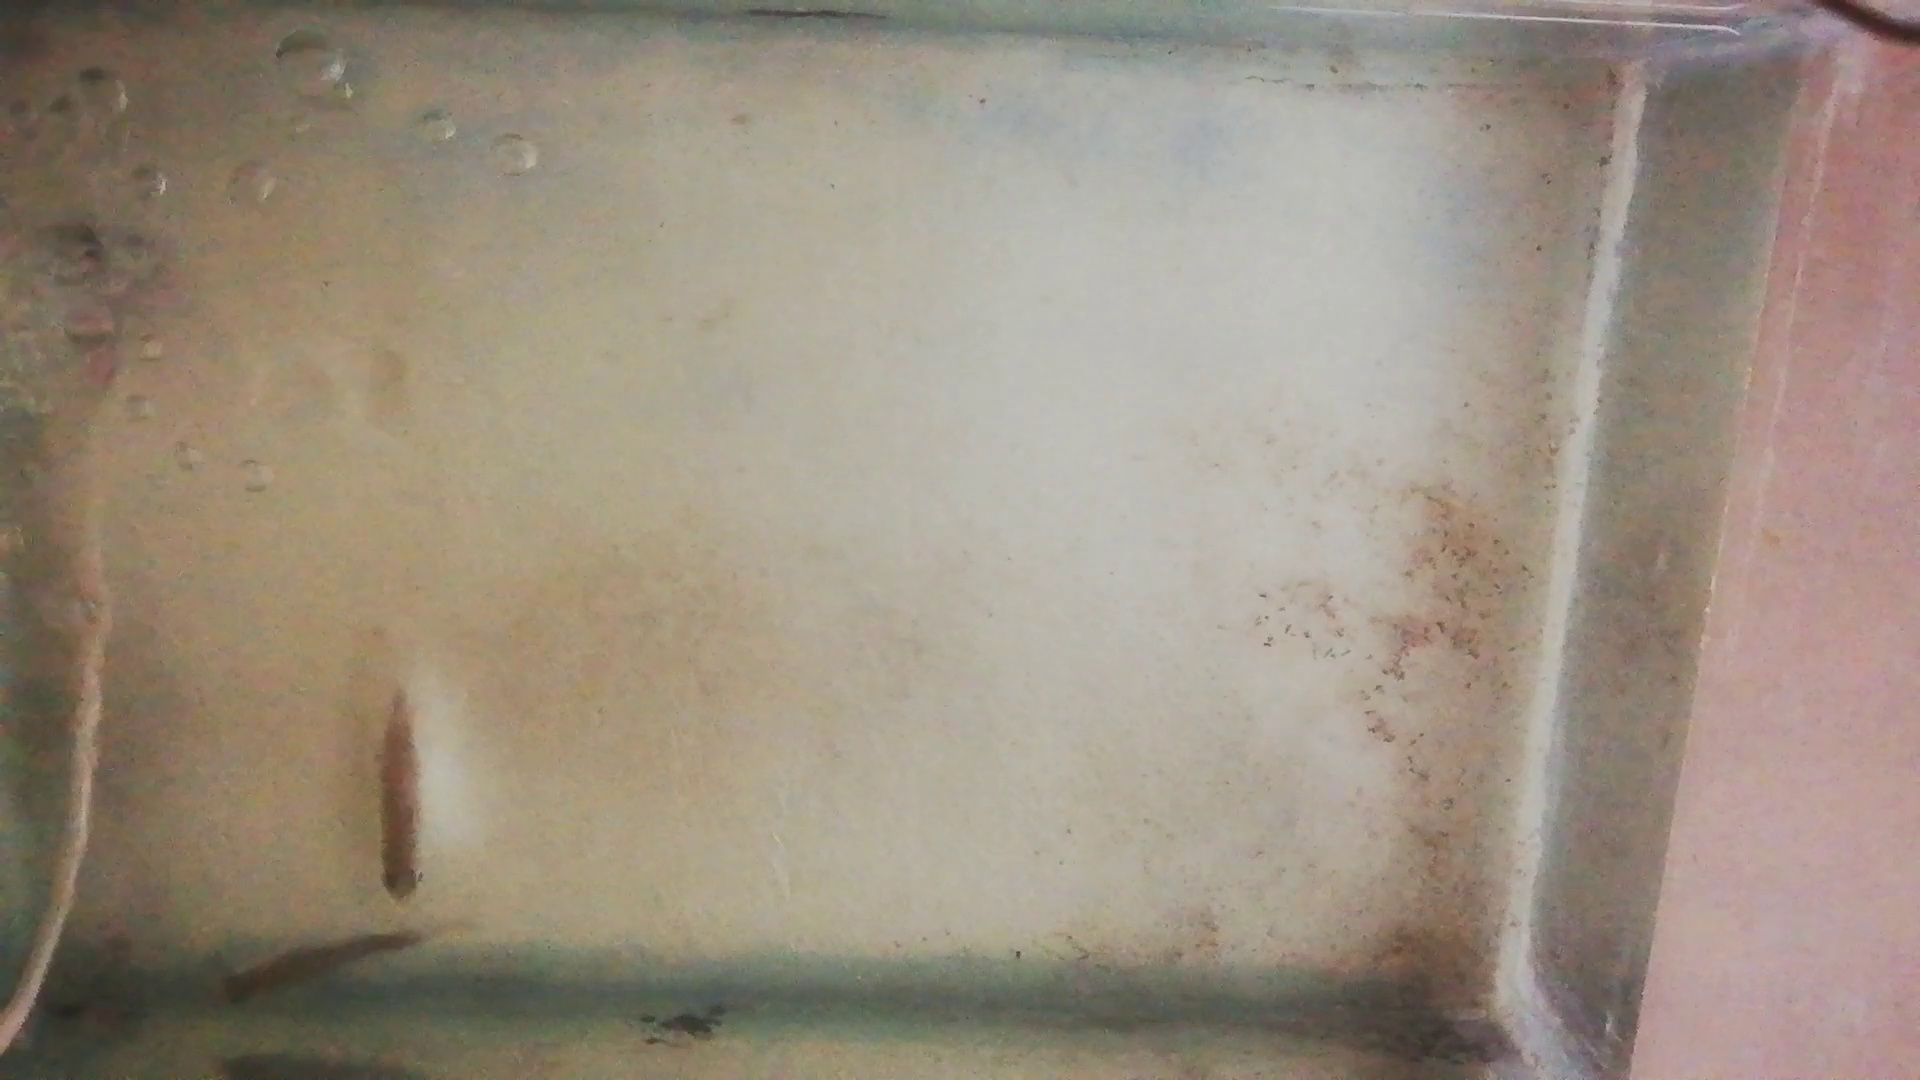fish: (225, 934, 419, 1004), (378, 686, 426, 905)
